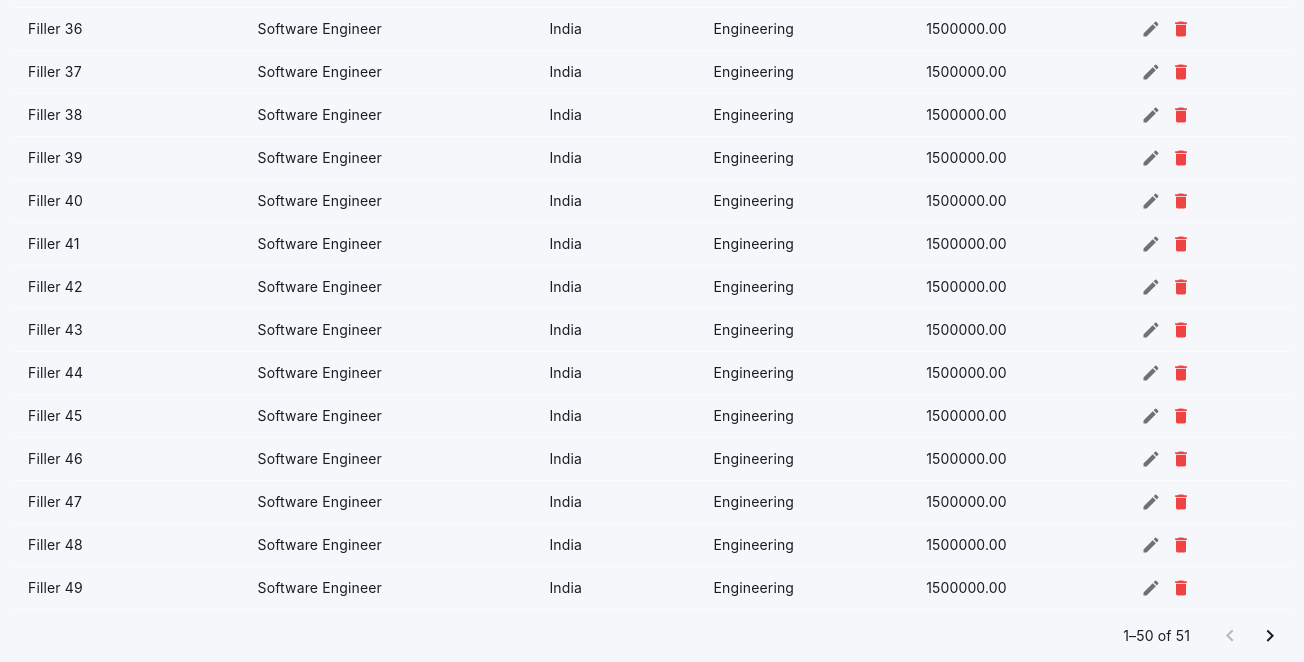
Test case: EmployeesPage › loads the next page of employees when Next page is clicked
This screenshot has width=1304, height=662.
(page scrolled)
Expected: the text "Grace Hopper" is not shown
Step 1. Click the button named "go to next page" → (1270, 636), box top-left (1250, 616), bottom-right (1290, 656)
(page scrolled)
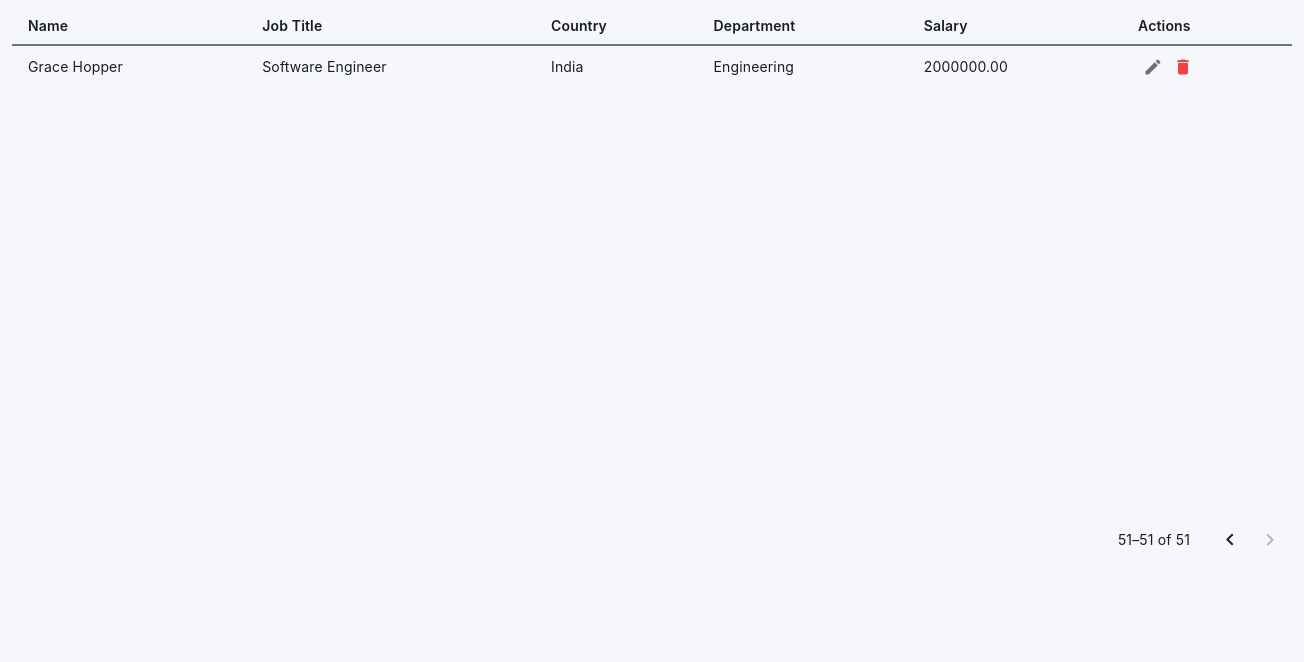
Result: the text "Grace Hopper" is shown at top-left (12, 45), bottom-right (246, 88)
